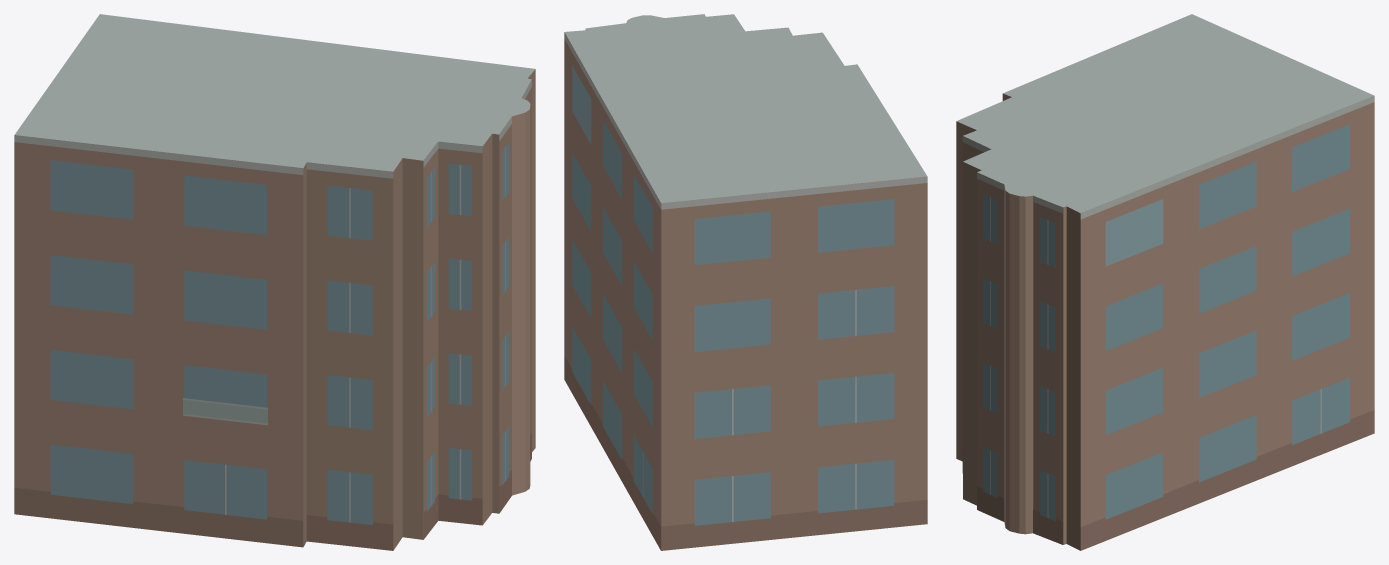
File: survey-upis-32655360.glb
3 renders of one model, left to right at view 1: azimuth 30°, elevation 25°; view 2: azimuth 150°, elevation 25°; view 3: azimuth 270°, elevation 25°, orthographic. The views are drawn at different scales.
Visible parts, largest first — view 1: survey-upis-32655360.tmp; view 2: survey-upis-32655360.tmp; view 3: survey-upis-32655360.tmp.
Part boxes in pixels (x1,y1,x2,y2): survey-upis-32655360.tmp: (14,14,535,550); survey-upis-32655360.tmp: (564,14,927,550); survey-upis-32655360.tmp: (956,14,1374,550).
Bounding box in the file's own units: 16.59 × 13.1 × 14.72.
